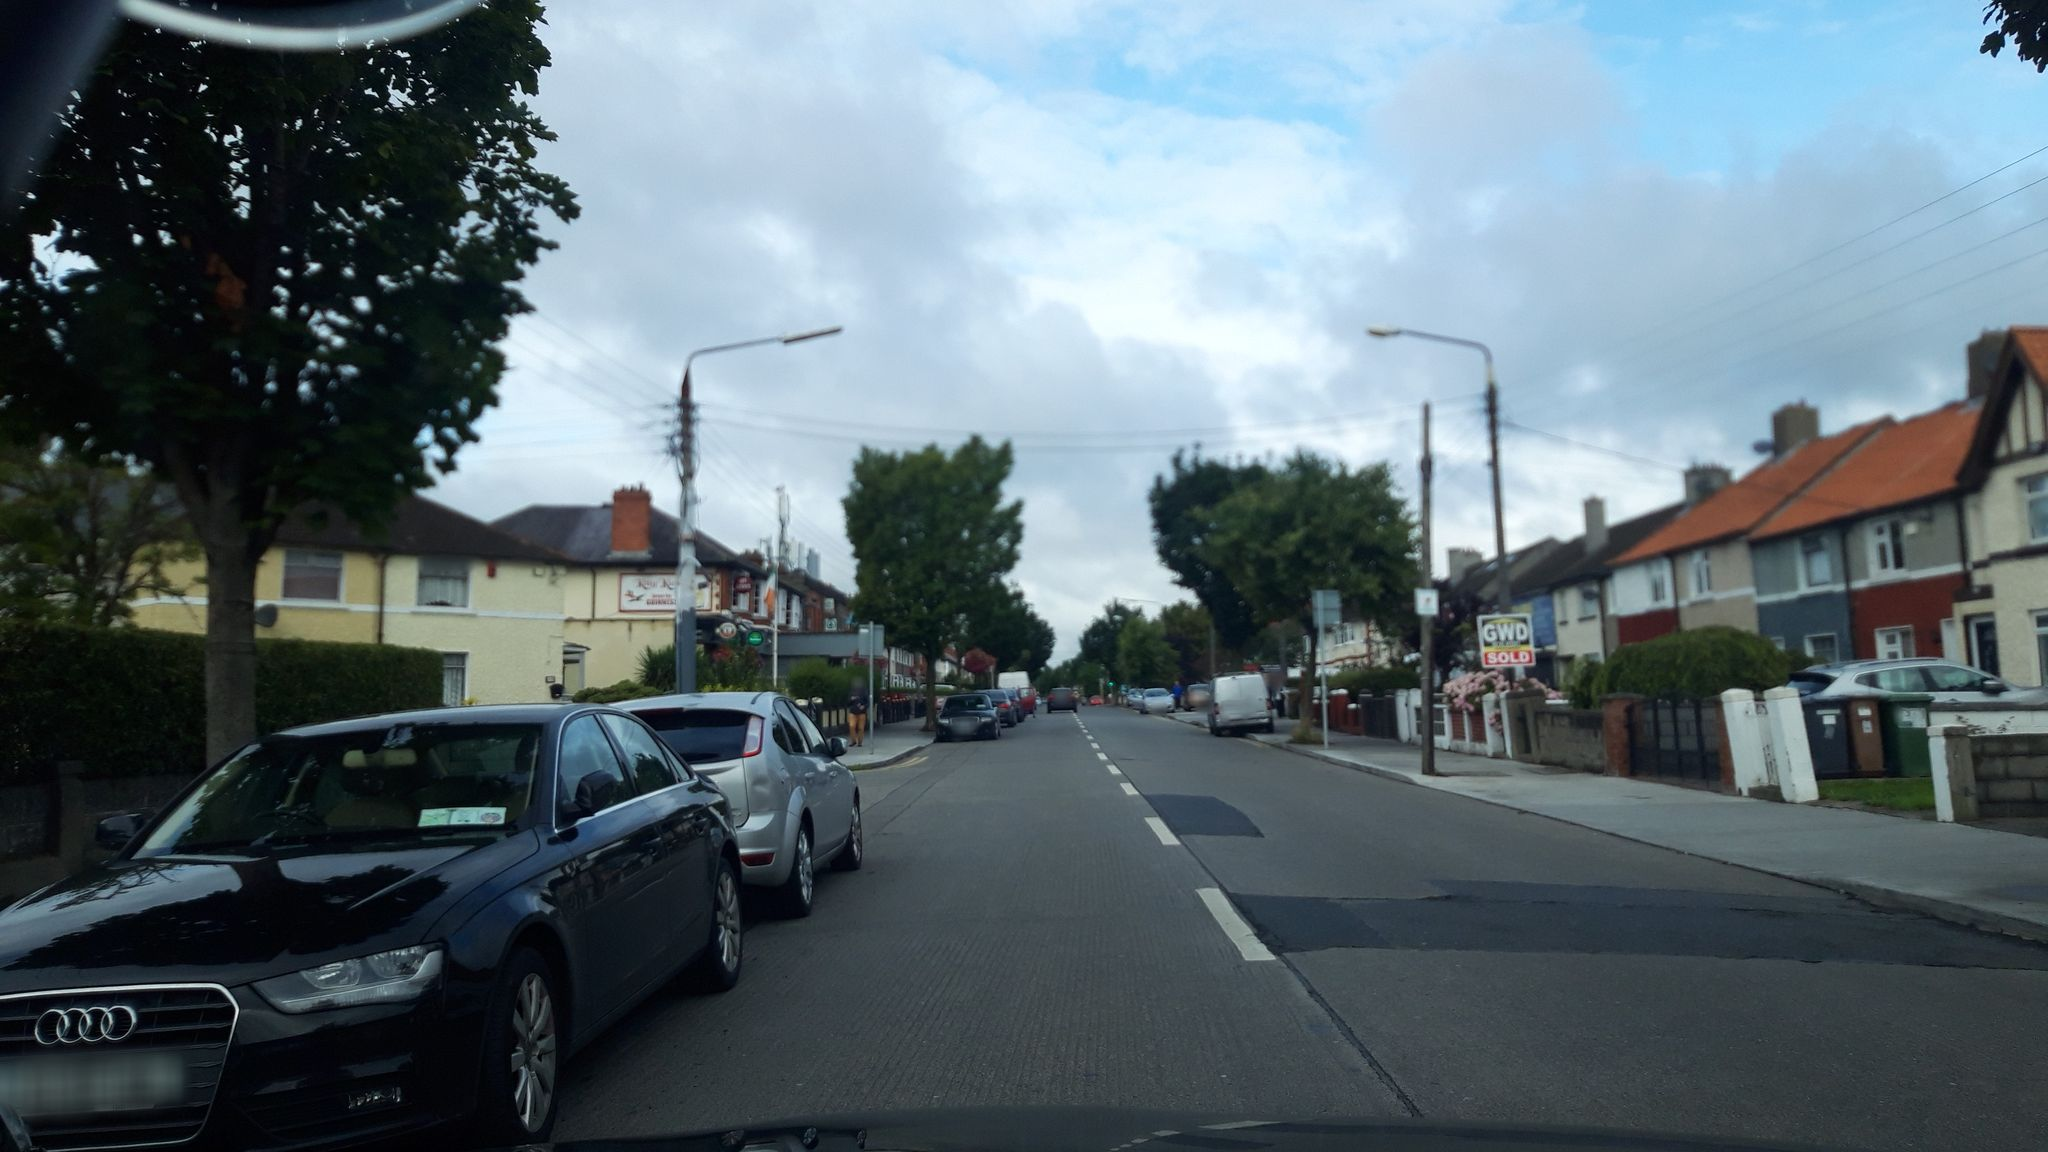property sign: (1457, 585, 1544, 685)
